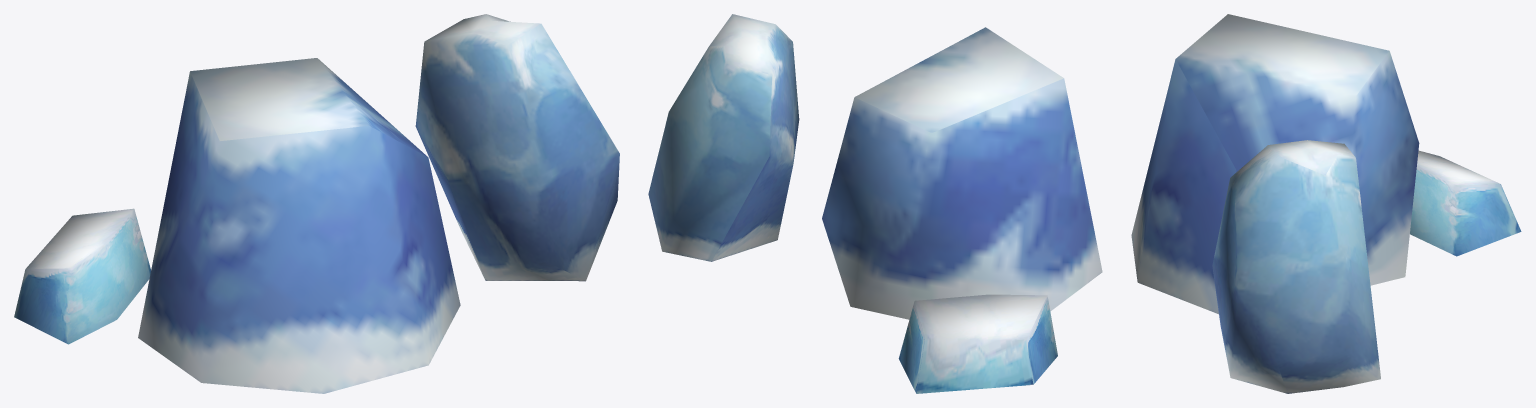
File: SM_stoneB_13.fbx
3 views of the same model, side by side, from view 1: azimuth 30°, elevation 25°; view 2: azimuth 150°, elevation 25°; view 3: azimuth 270°, elevation 25° (orthographic). The views are drawn at different scales.
Visible parts, largest first — view 1: SM_stoneB_13; view 2: SM_stoneB_13; view 3: SM_stoneB_13.
Boxes of the visible parts, bbox=[...] form: SM_stoneB_13: bbox=[14, 14, 619, 393]; SM_stoneB_13: bbox=[648, 14, 1102, 393]; SM_stoneB_13: bbox=[1131, 14, 1521, 393].
Bounding box in the file's own units: 2.59 × 1.23 × 1.93.
